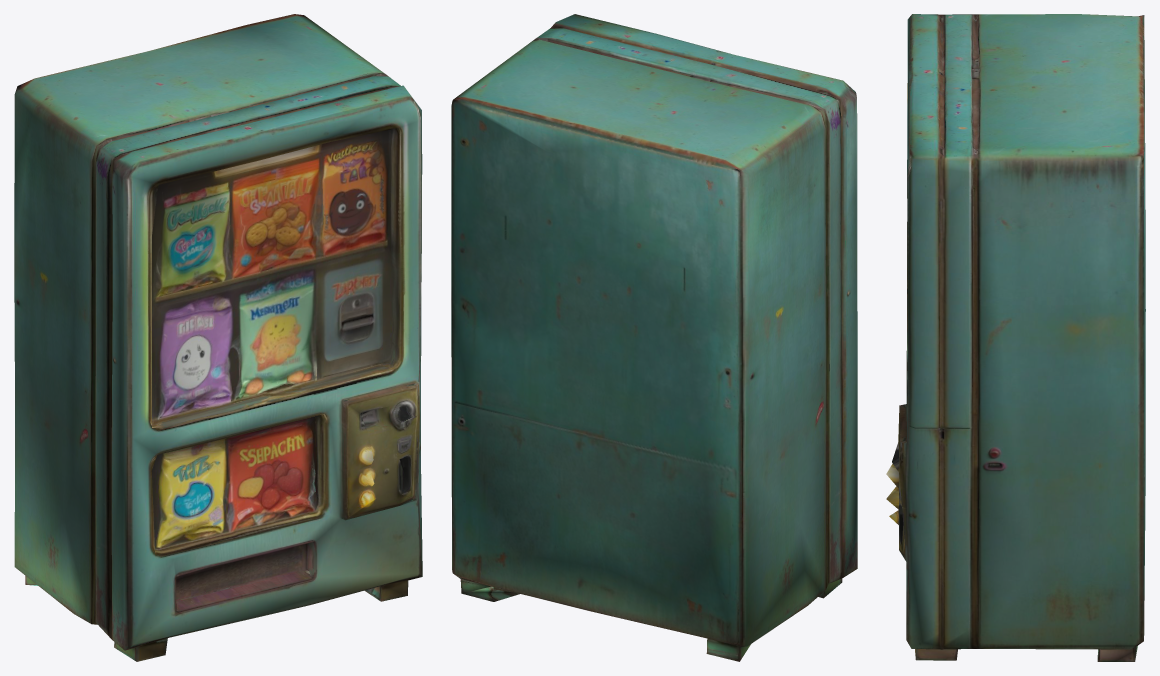
The model's file is Snack_Machine_Fantasy_0408235713_texture.glb.
3 renders of one model, left to right at view 1: azimuth 30°, elevation 25°; view 2: azimuth 150°, elevation 25°; view 3: azimuth 270°, elevation 25°, orthographic. The views are drawn at different scales.
Parts seen in each view (by area): view 1: Mesh1; view 2: Mesh1; view 3: Mesh1.
Boxes of the visible parts, x1,y1,x2,y2 form: Mesh1: [14, 14, 422, 661]; Mesh1: [451, 14, 857, 661]; Mesh1: [886, 14, 1145, 661].
Bounding box in the file's own units: 1.25 × 2 × 0.9161.
1 material, 1 textured.
